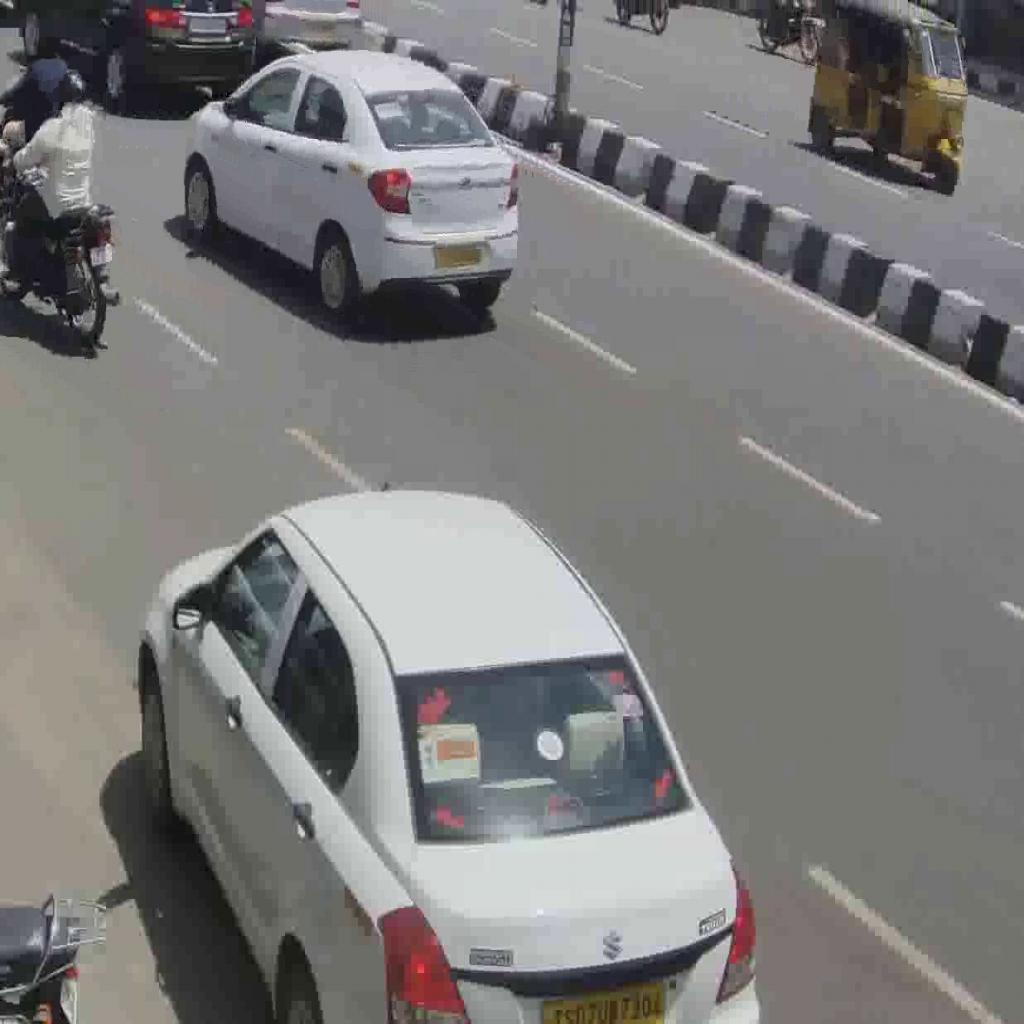helmet: (1, 140, 122, 349)
